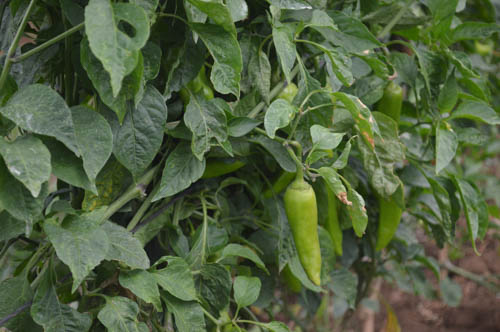ChiliPepper: (287, 185, 321, 287), (374, 179, 404, 255), (318, 180, 341, 251), (380, 85, 403, 127)
